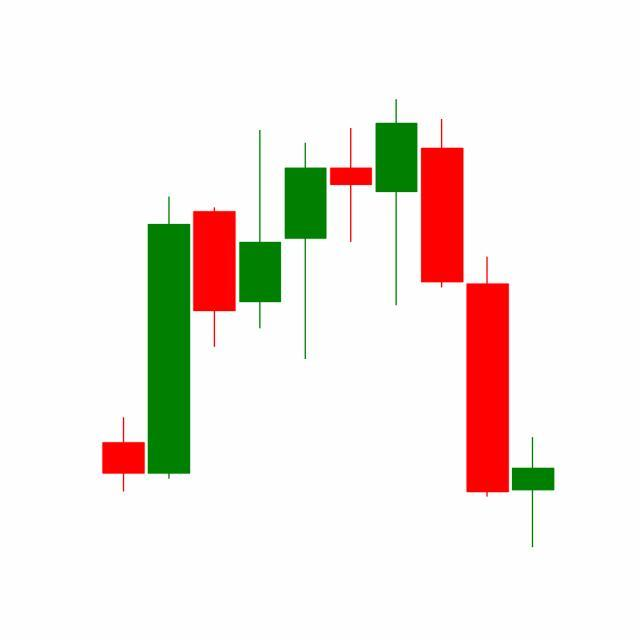Hikkake Pattern: (283, 100, 512, 503)
